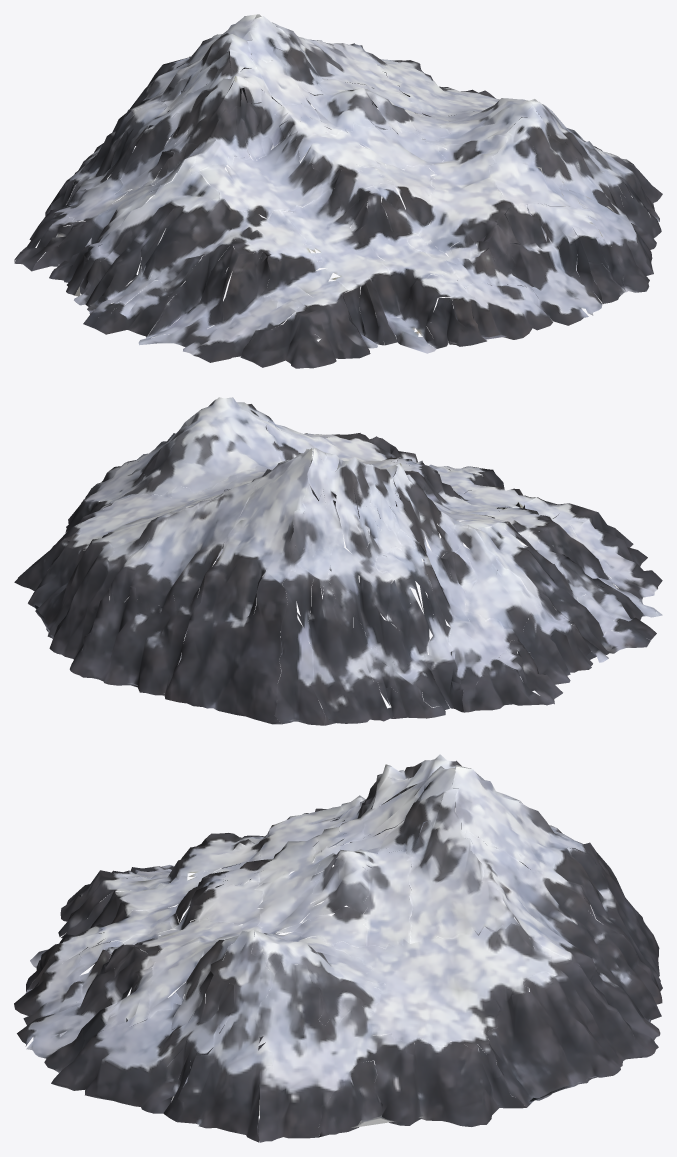
Rendered from MTN_peak_0.glb.
3 renders of one model, top to bottom at view 1: azimuth 30°, elevation 25°; view 2: azimuth 150°, elevation 25°; view 3: azimuth 270°, elevation 25°, orthographic. The views are drawn at different scales.
Parts seen in each view (by area): view 1: geometry_0; view 2: geometry_0; view 3: geometry_0.
Part boxes in pixels (x1,y1,x2,y2): geometry_0: (14,14,662,368); geometry_0: (14,397,662,725); geometry_0: (14,754,662,1142).
Size of the model in its own units: 0.9602 by 0.3116 by 0.8695.
1 material, 1 textured.
